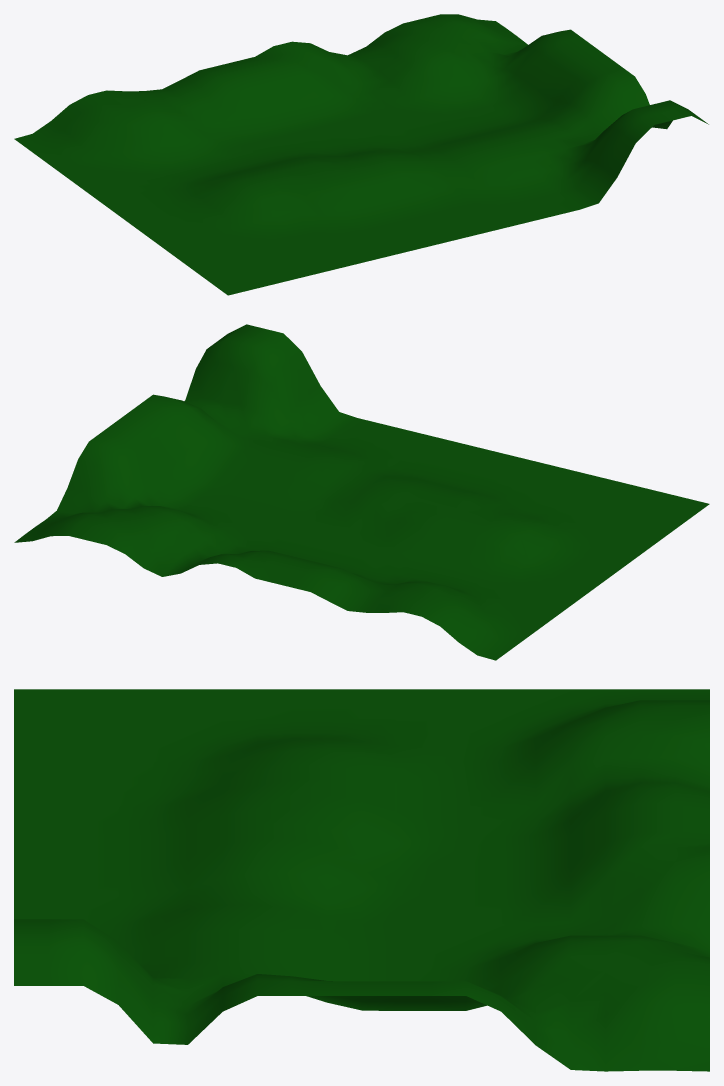
File: ground.dae
3 renders of one model, top to bottom at view 1: azimuth 30°, elevation 25°; view 2: azimuth 150°, elevation 25°; view 3: azimuth 270°, elevation 25°, orthographic. The views are drawn at different scales.
Visible parts, largest first — view 1: SketchUp; view 2: SketchUp; view 3: SketchUp.
Boxes of the visible parts, left/top/right/bottom form: SketchUp: left=14, top=14, right=708, bottom=295; SketchUp: left=14, top=324, right=709, bottom=660; SketchUp: left=14, top=689, right=709, bottom=1071.
Bounding box in the file's own units: 3071 × 2362 × 405.
